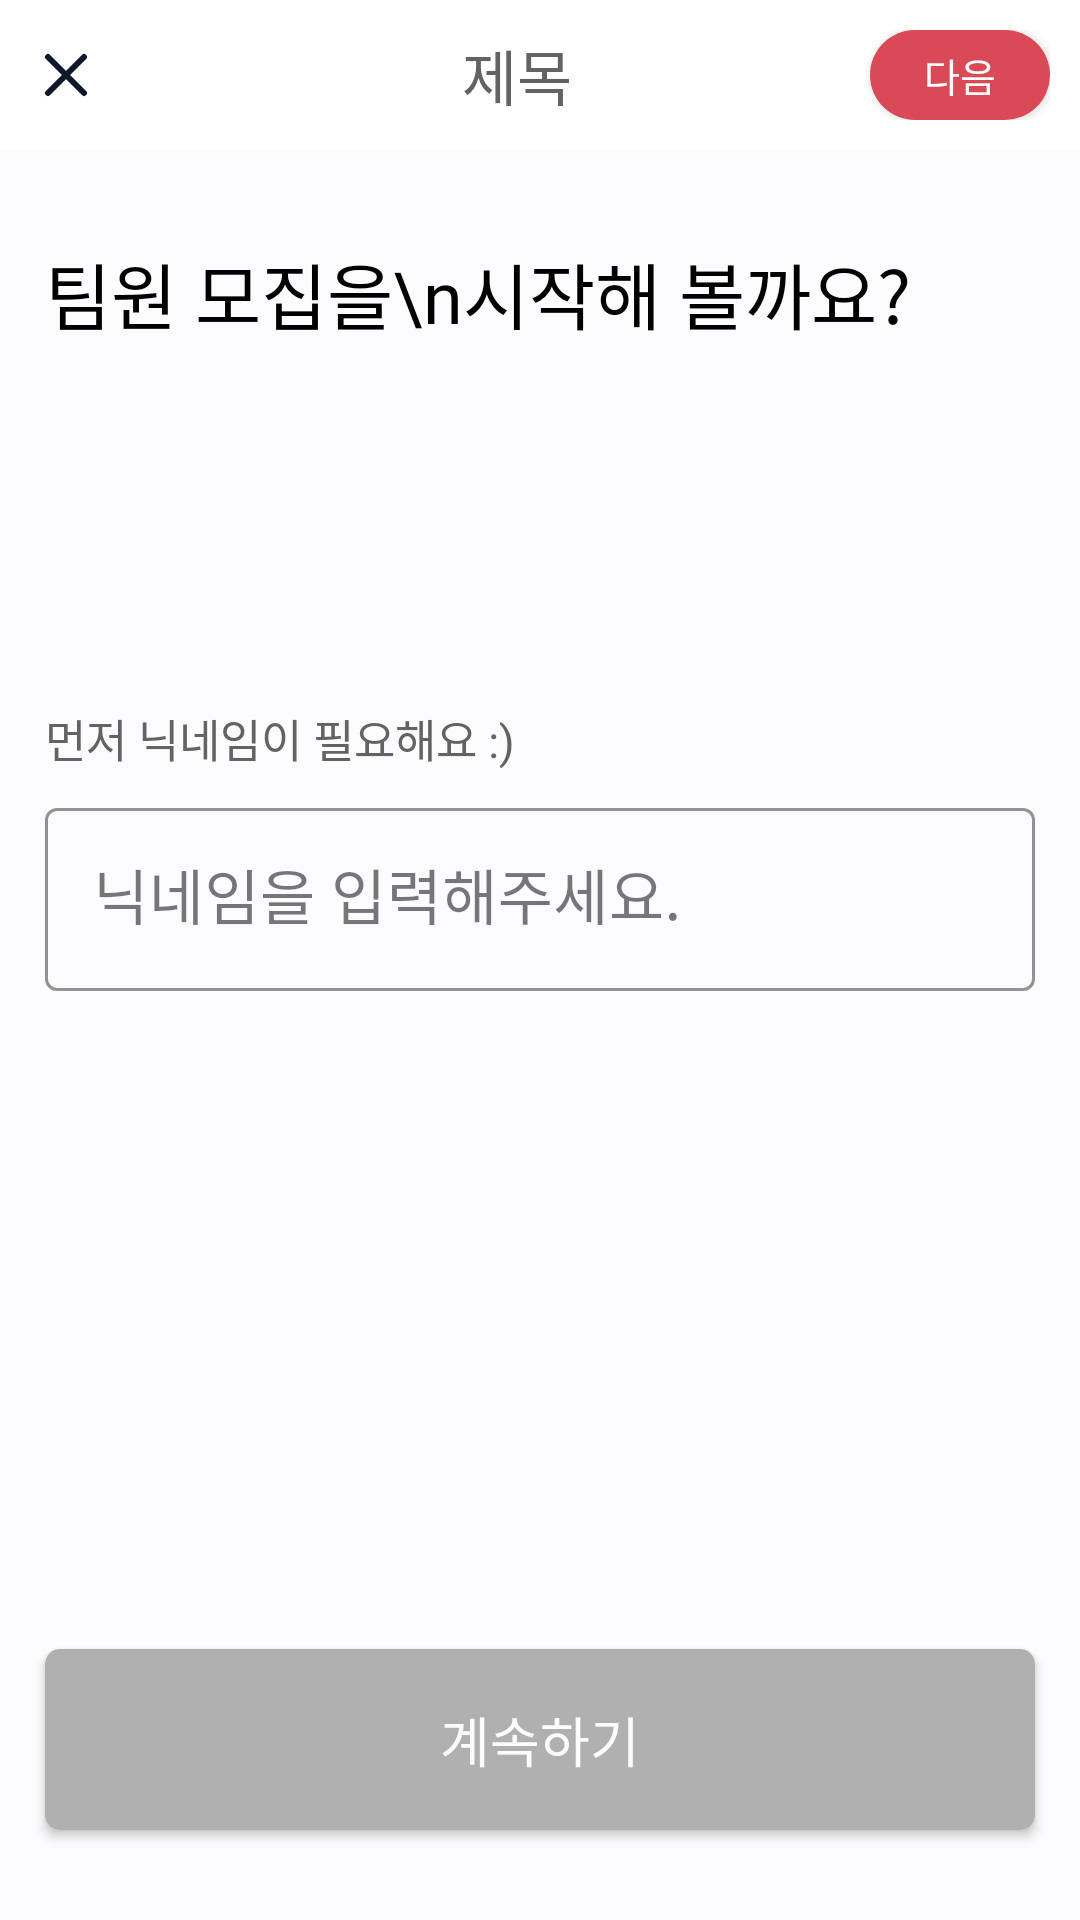

Where to tap for icons on this 1080×1920 app screen, as [x,y]:
delete: [66,74]
